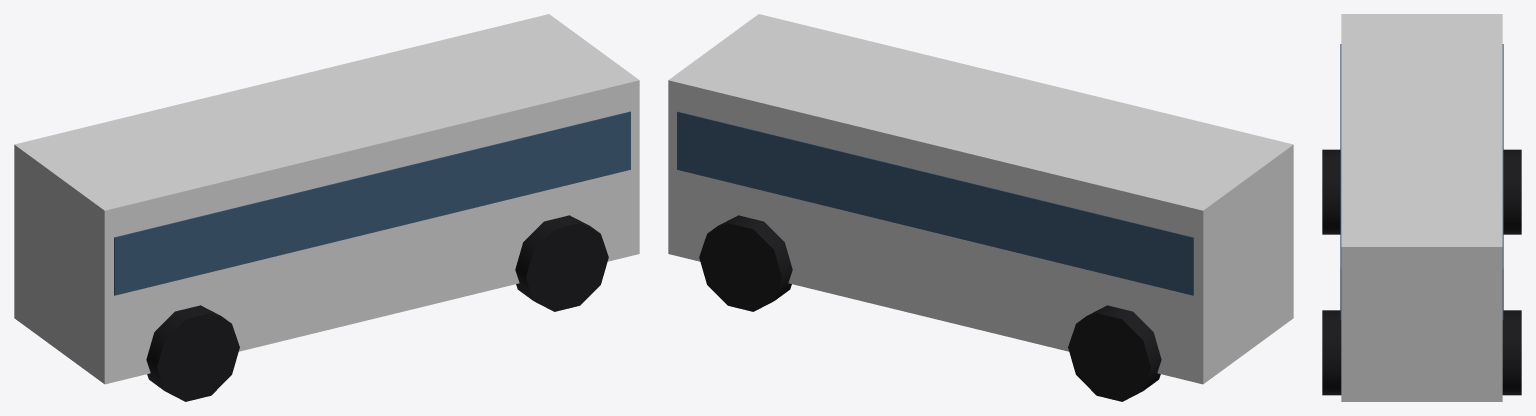
File: bus_1998.glb
3 views of the same model, side by side, from view 1: azimuth 30°, elevation 25°; view 2: azimuth 150°, elevation 25°; view 3: azimuth 270°, elevation 25° (orthographic). The views are drawn at different scales.
Visible parts, largest first — view 1: Body, Windows, bus_w1_1, bus_w0_1; view 2: Body, Windows, bus_w1_-1, bus_w0_-1; view 3: Body, bus_w1_-1, bus_w1_1, bus_w0_-1, bus_w0_1, Windows.
Part boxes in pixels (x1=…): Body: x1=14, y1=14, x2=639, y2=384; Windows: x1=114, y1=111, x2=630, y2=295; bus_w1_1: x1=515, y1=215, x2=608, y2=311; bus_w0_1: x1=146, y1=305, x2=239, y2=401; Body: x1=668, y1=14, x2=1293, y2=384; Windows: x1=677, y1=111, x2=1193, y2=295; bus_w1_-1: x1=699, y1=215, x2=792, y2=311; bus_w0_-1: x1=1068, y1=305, x2=1161, y2=401; Body: x1=1341, y1=14, x2=1502, y2=401; bus_w1_-1: x1=1502, y1=310, x2=1521, y2=395; bus_w1_1: x1=1322, y1=310, x2=1341, y2=395; bus_w0_-1: x1=1503, y1=149, x2=1521, y2=234; bus_w0_1: x1=1322, y1=149, x2=1340, y2=234; Windows: x1=1340, y1=44, x2=1503, y2=320.
Size of the model in its own units: 0.58 by 0.2078 by 0.21.
